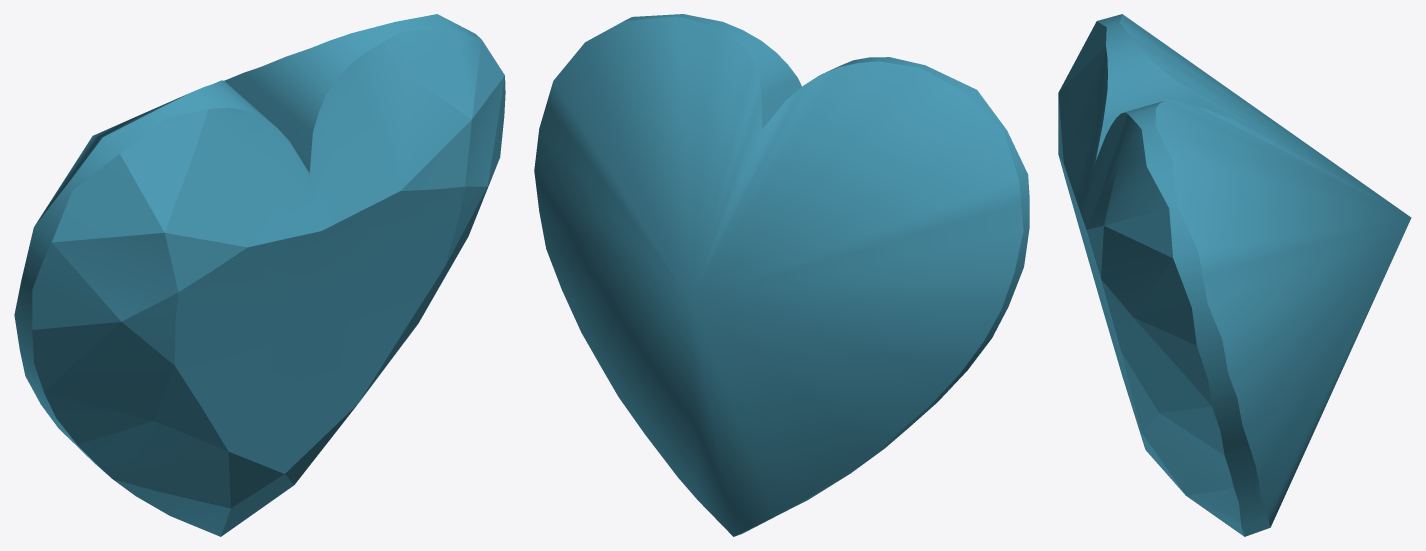
The model's file is BR1_8shapes_heart_Classic_Stone.001 3.glb.
The picture shows the model from 3 angles, left to right: view 1: azimuth 30°, elevation 25°; view 2: azimuth 150°, elevation 25°; view 3: azimuth 270°, elevation 25°; orthographic projection. The views are drawn at different scales.
Visible parts, largest first — view 1: BR1_8shapes_heart_Classic_Stone.001; view 2: BR1_8shapes_heart_Classic_Stone.001; view 3: BR1_8shapes_heart_Classic_Stone.001.
Boxes of the visible parts, bbox=[...] form: BR1_8shapes_heart_Classic_Stone.001: bbox=[14, 14, 505, 536]; BR1_8shapes_heart_Classic_Stone.001: bbox=[534, 14, 1029, 536]; BR1_8shapes_heart_Classic_Stone.001: bbox=[1058, 14, 1411, 536].
Bounding box in the file's own units: 0.4335 × 0.4206 × 0.2895.
